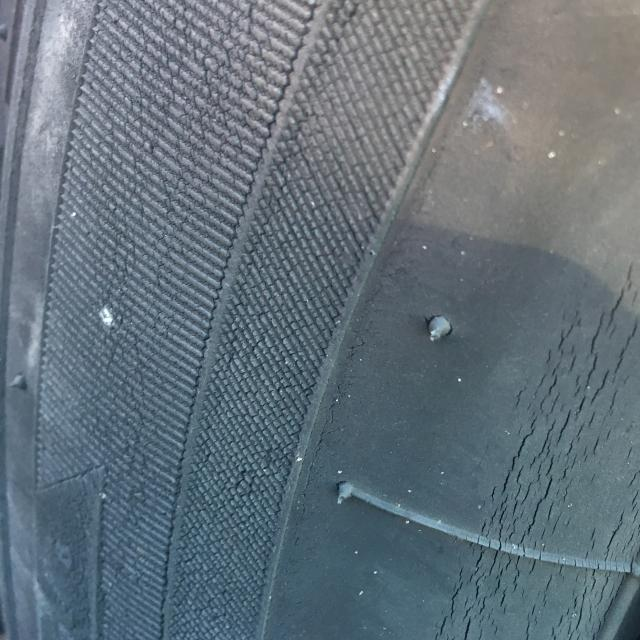Cracks: (21, 0, 361, 640), (428, 251, 640, 640)
